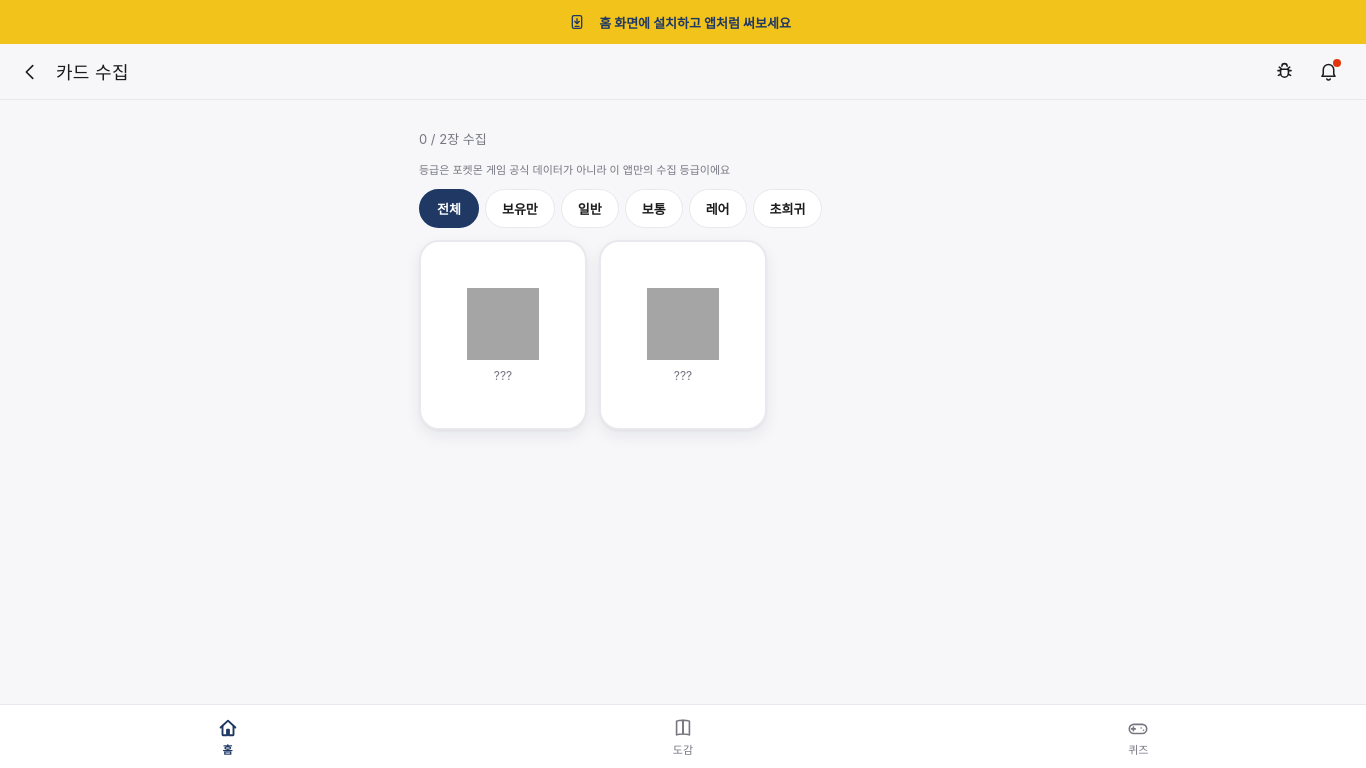
it: CardCollection › 조건에 맞는 카드가 없으면 안내 문구를 보여준다
The image size is (1366, 768).
Expected: the text "0 / 2장 수집" is shown, left=419, top=131, right=487, bottom=147
Click the button "초희귀". click: [788, 208]
box: left=753, top=189, right=822, bottom=228
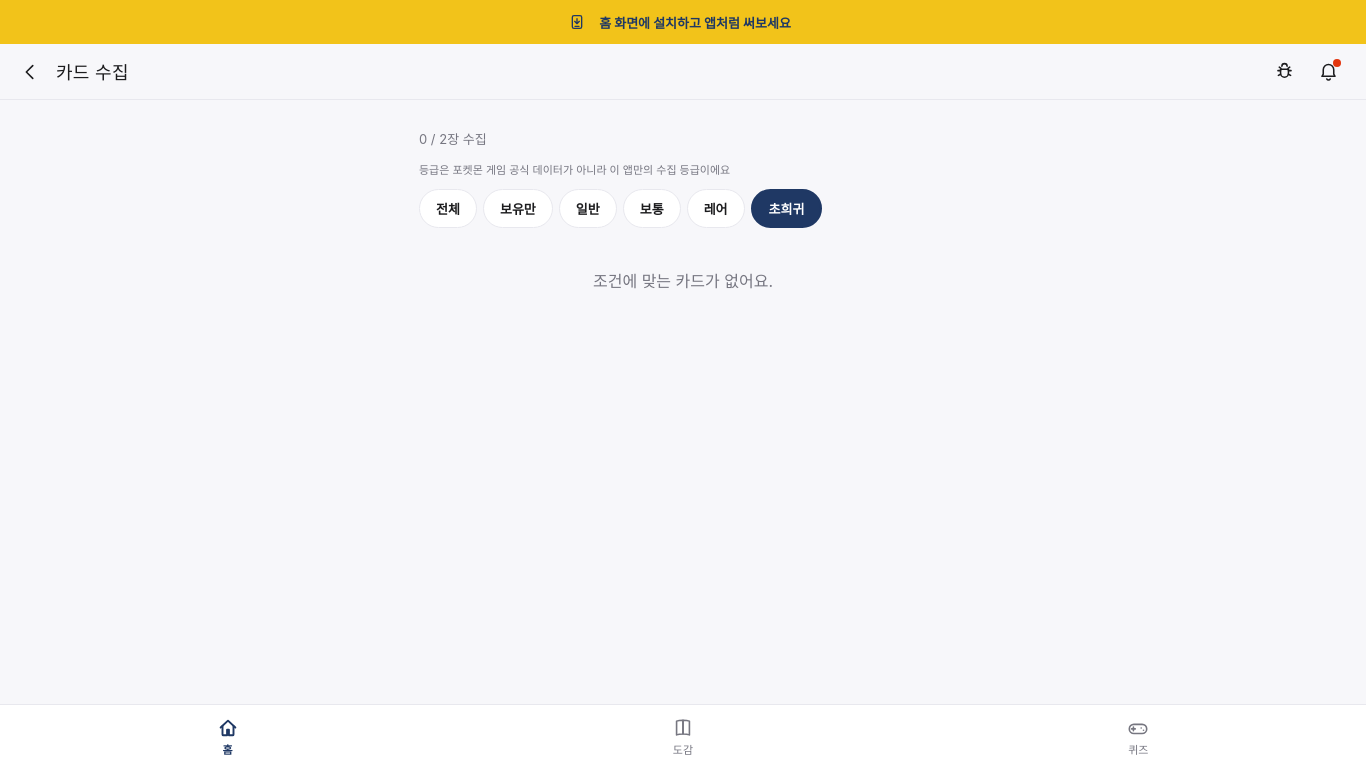
Result: the text "조건에 맞는 카드가 없어요." is shown at left=593, top=271, right=773, bottom=291
